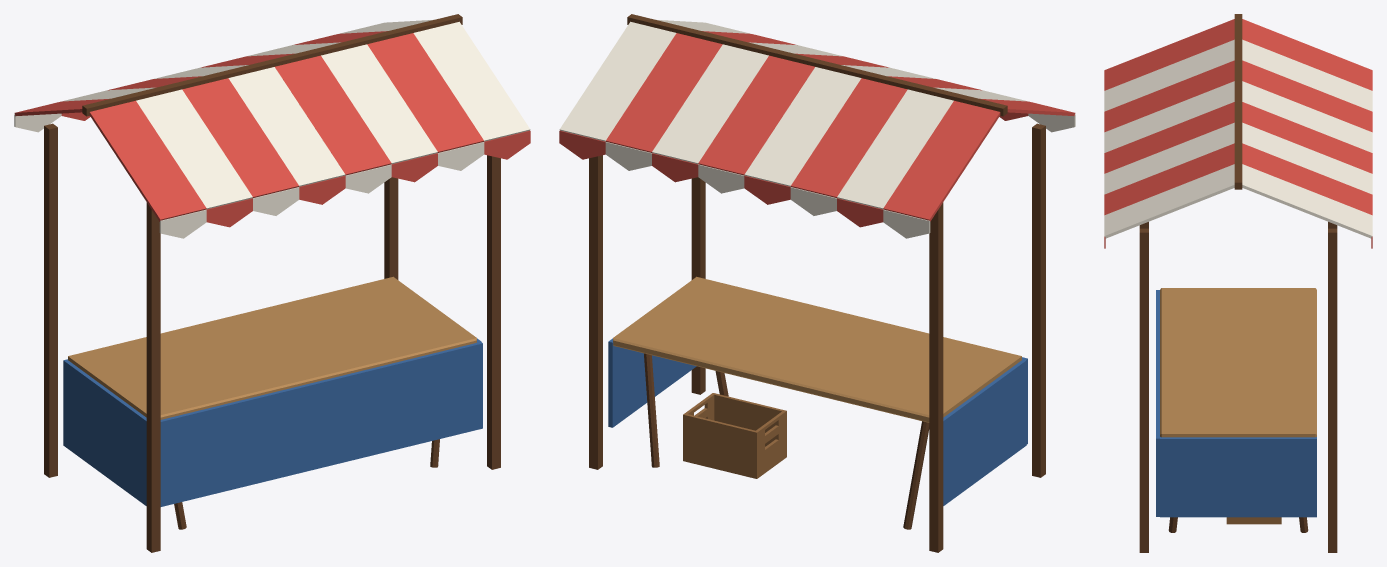
File: stall.glb
The picture shows the model from 3 angles, left to right: view 1: azimuth 30°, elevation 25°; view 2: azimuth 150°, elevation 25°; view 3: azimuth 270°, elevation 25°; orthographic projection. The views are drawn at different scales.
Parts seen in each view (by area): view 1: cloth5, woodTop0, cloth6, stripeA13, stripeB23, stripeA21, stripeB15, stripeB19, stripeA25, stripeB27, stripeA17, woodDark8 (+13 smaller); view 2: woodTop0, cloth6, crate45, stripeA12, stripeB22, stripeA20, stripeB14, stripeB18, stripeA24, stripeB26, stripeA16, woodDark10 (+16 smaller); view 3: woodTop0, cloth7, woodDark9, woodDark11, stripeB26, stripeB27, stripeB14, stripeB15, stripeB18, stripeB19, stripeA12, stripeA13 (+11 smaller).
Boxes of the visible parts, x1=… form: cloth5: x1=160, y1=342, x2=482, y2=506; woodTop0: x1=68, y1=276, x2=476, y2=419; cloth6: x1=63, y1=359, x2=146, y2=505; stripeA13: x1=89, y1=100, x2=206, y2=221; stripeB23: x1=321, y1=44, x2=437, y2=164; stripeA21: x1=275, y1=55, x2=391, y2=175; stripeB15: x1=136, y1=89, x2=252, y2=209; stripeB19: x1=228, y1=67, x2=345, y2=186; stripeA25: x1=367, y1=33, x2=483, y2=152; stripeB27: x1=413, y1=21, x2=530, y2=141; stripeA17: x1=182, y1=78, x2=298, y2=197; woodDark8: x1=146, y1=202, x2=160, y2=552; woodTop0: x1=613, y1=276, x2=1021, y2=422; cloth6: x1=943, y1=359, x2=1026, y2=505; crate45: x1=683, y1=393, x2=786, y2=478; stripeA12: x1=883, y1=100, x2=1000, y2=221; stripeB22: x1=652, y1=44, x2=768, y2=164; stripeA20: x1=698, y1=55, x2=814, y2=175; stripeB14: x1=837, y1=89, x2=953, y2=209; stripeB18: x1=744, y1=67, x2=861, y2=186; stripeA24: x1=606, y1=33, x2=722, y2=152; stripeB26: x1=559, y1=21, x2=676, y2=141; stripeA16: x1=791, y1=78, x2=907, y2=197; woodDark10: x1=929, y1=202, x2=943, y2=552; woodTop0: x1=1160, y1=288, x2=1316, y2=437; cloth7: x1=1160, y1=437, x2=1316, y2=517; woodDark9: x1=1139, y1=228, x2=1148, y2=552; woodDark11: x1=1328, y1=228, x2=1337, y2=552; stripeB26: x1=1242, y1=164, x2=1372, y2=238; stripeB27: x1=1104, y1=164, x2=1234, y2=238; stripeB14: x1=1242, y1=39, x2=1372, y2=111; stripeB15: x1=1104, y1=39, x2=1234, y2=111; stripeB18: x1=1242, y1=81, x2=1372, y2=152; stripeB19: x1=1104, y1=81, x2=1234, y2=152; stripeA12: x1=1242, y1=19, x2=1372, y2=90; stripeA13: x1=1104, y1=19, x2=1234, y2=90.
Bounding box in the file's own units: 2.54 × 2.65 × 1.71.
